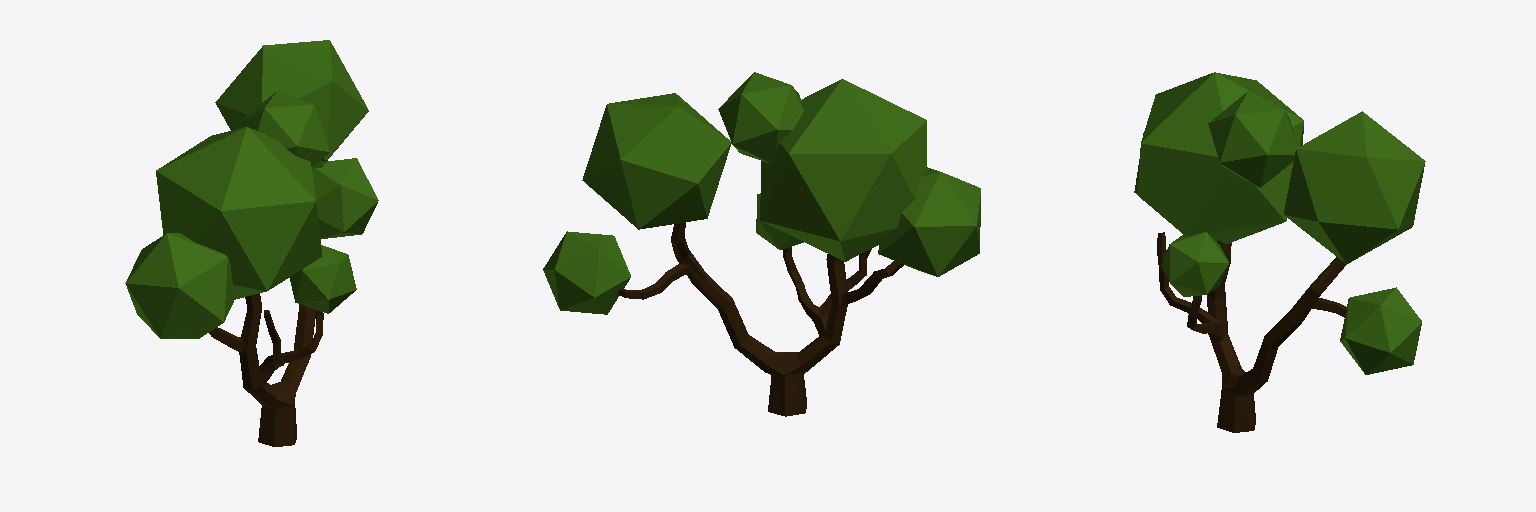
Rendered from tree.obj.
3 views of the same model, side by side, from view 1: azimuth 30°, elevation 25°; view 2: azimuth 150°, elevation 25°; view 3: azimuth 270°, elevation 25° (orthographic).
Parts seen in each view (by area): view 1: Lowpoly_tree_sample:Default; view 2: Lowpoly_tree_sample:Default; view 3: Lowpoly_tree_sample:Default.
Part boxes in pixels (x1,y1,x2,y2): Lowpoly_tree_sample:Default: (125, 40, 378, 446); Lowpoly_tree_sample:Default: (543, 72, 980, 416); Lowpoly_tree_sample:Default: (1134, 72, 1425, 432).
Size of the model in its own units: 27.98 by 26.54 by 20.8.